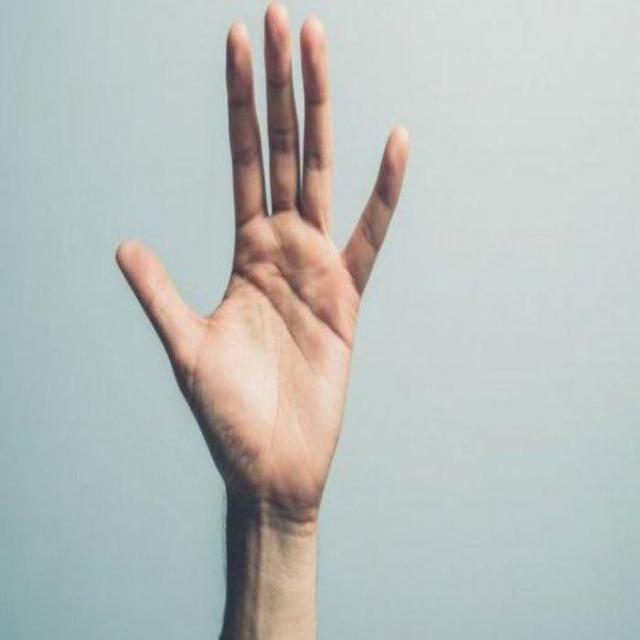bare_hand: (115, 4, 409, 529)
